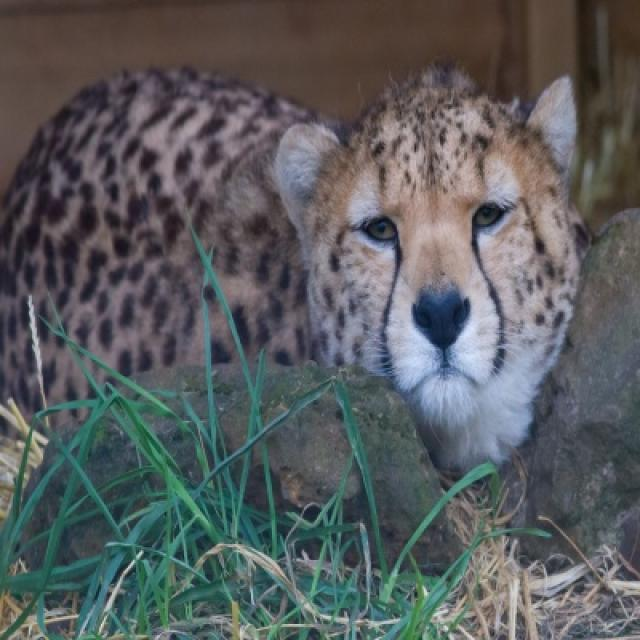Cheetah: (0, 76, 585, 482)
